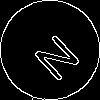N: (25, 25, 83, 84)
